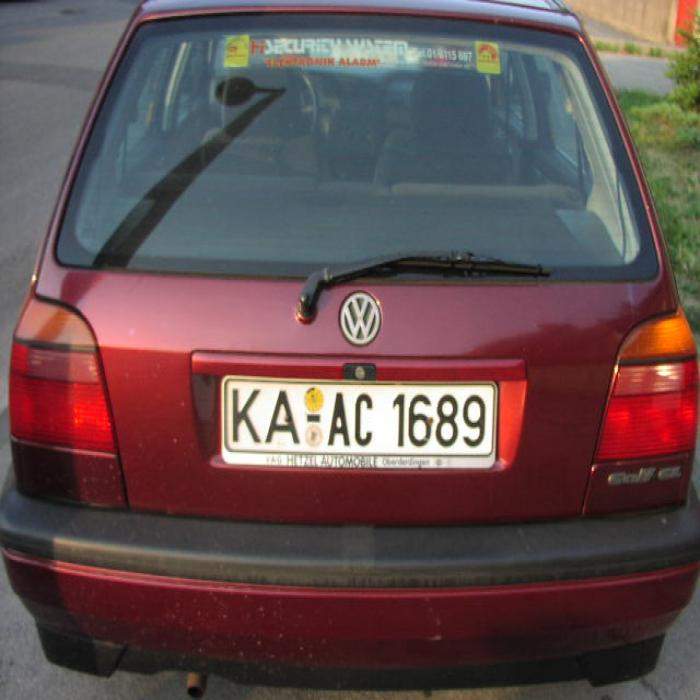number_plate: (224, 380, 492, 454)
